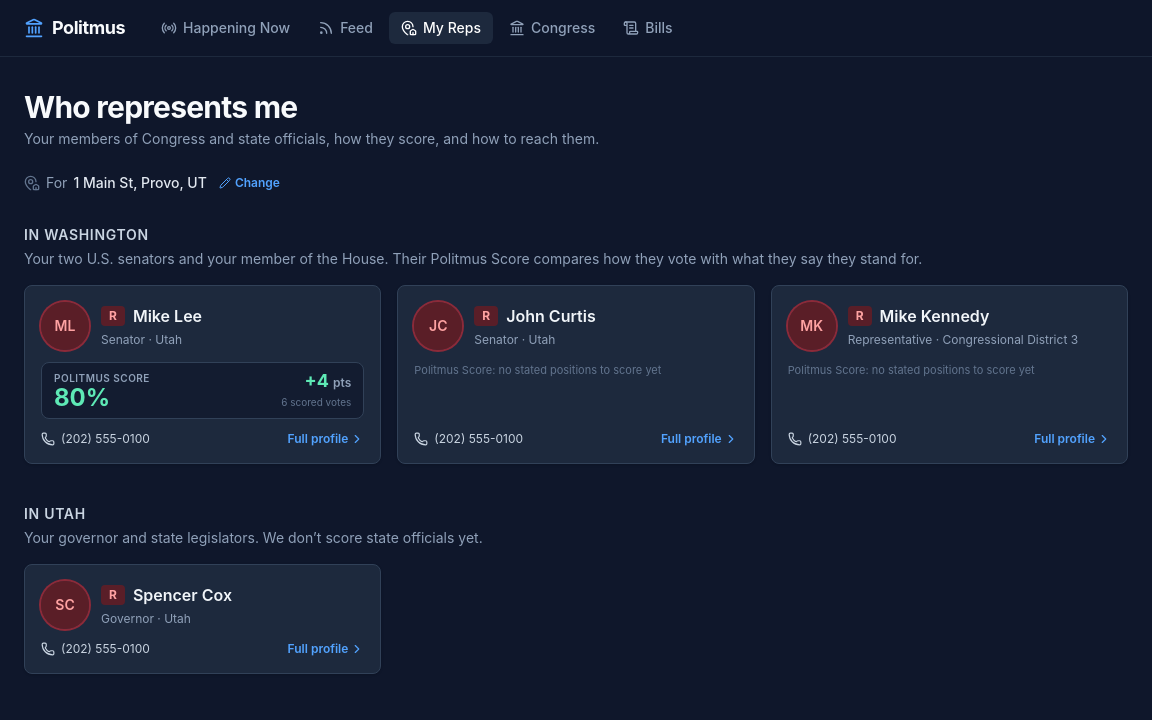
Test: My Reps › opens a full profile in the drawer
What coordinates should you click on to do the following:
click the button with aria-label "Full profile: Mike Lee"
I would click on:
 (326, 439)
Its box is [288,431,364,447].
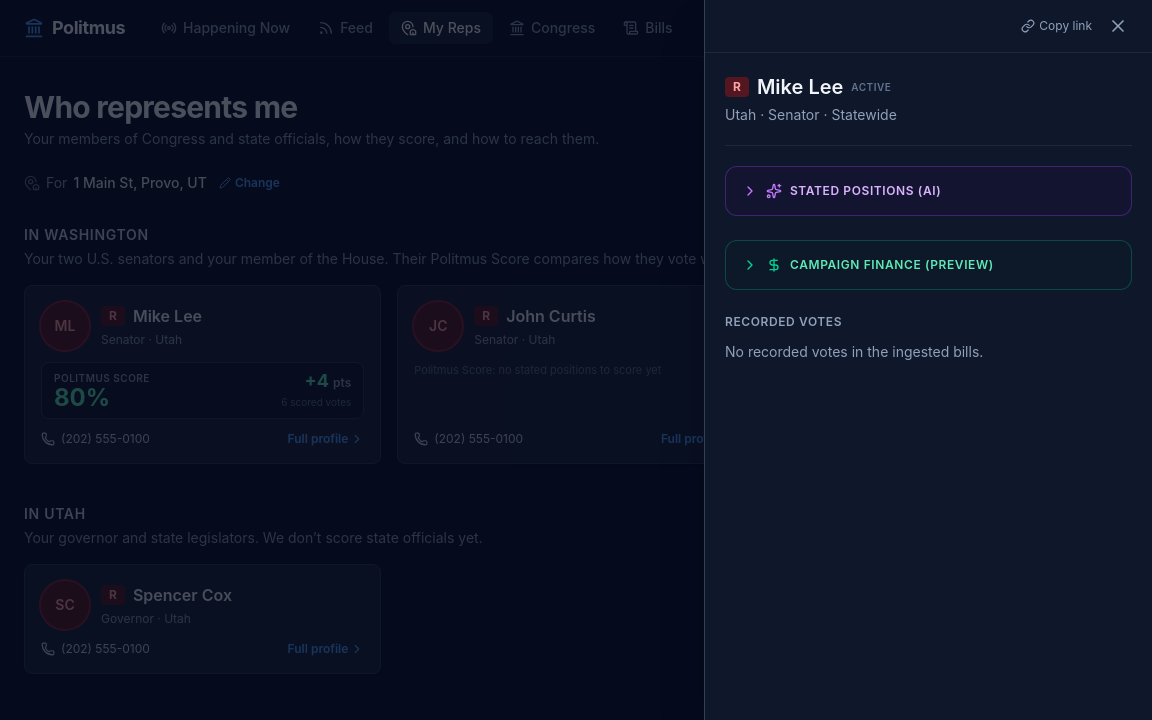
Expected: the dialog is shown, [704,0,1151,719]
